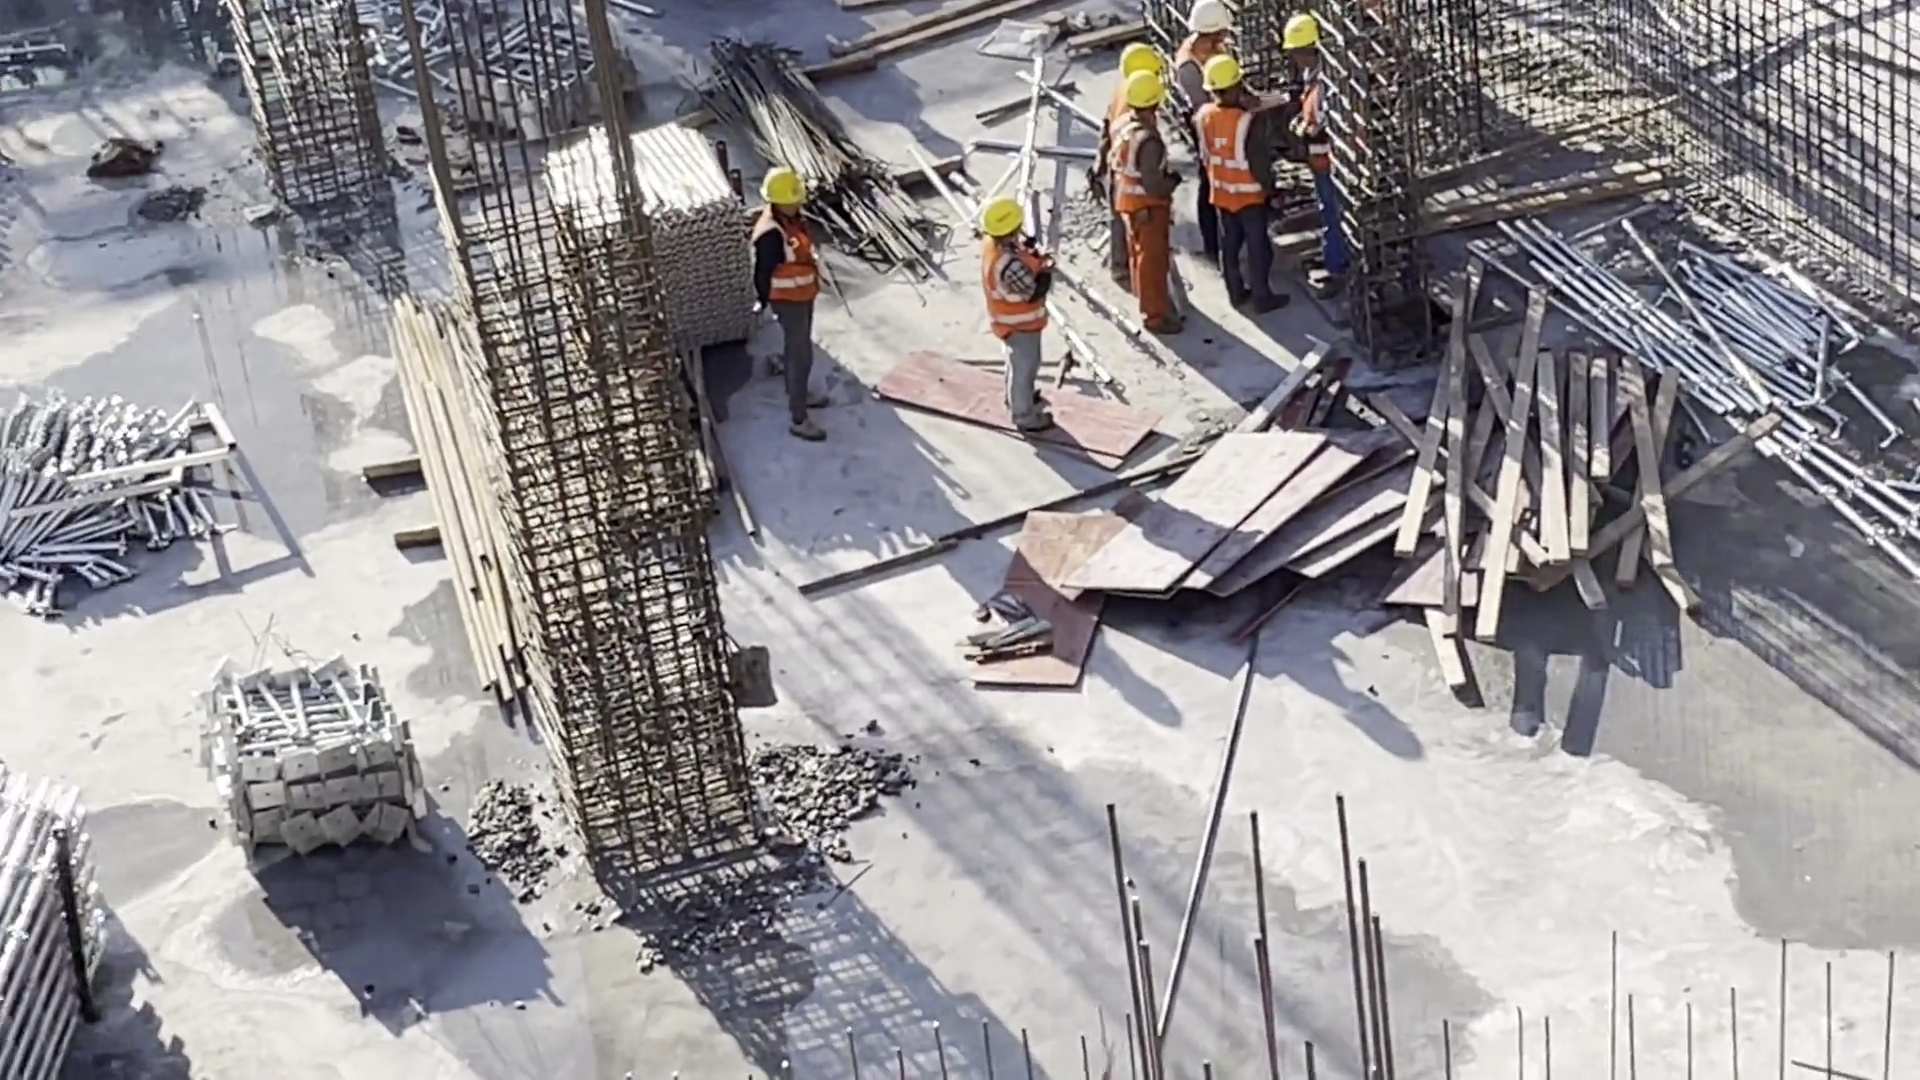helmet: (1185, 1, 1247, 44), (750, 169, 801, 210), (981, 206, 1031, 241), (1275, 15, 1320, 53), (1128, 75, 1161, 111), (1204, 67, 1244, 92), (1125, 48, 1158, 77)
person: (743, 164, 840, 460), (1274, 15, 1362, 304), (1189, 57, 1279, 315), (964, 201, 1059, 435), (1118, 71, 1187, 336), (1172, 1, 1236, 264), (1105, 41, 1164, 290)
vest: (1197, 114, 1259, 213), (751, 222, 827, 298), (992, 250, 1043, 333), (1289, 80, 1335, 165), (1113, 135, 1162, 213)
